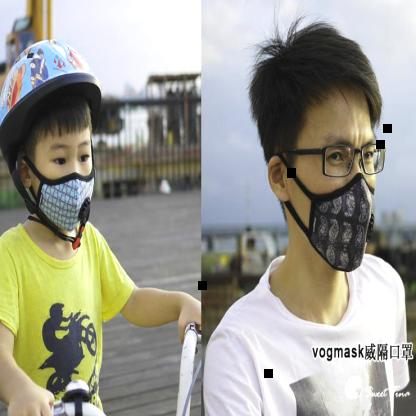mask: (250, 15, 392, 282), (0, 30, 111, 243)
